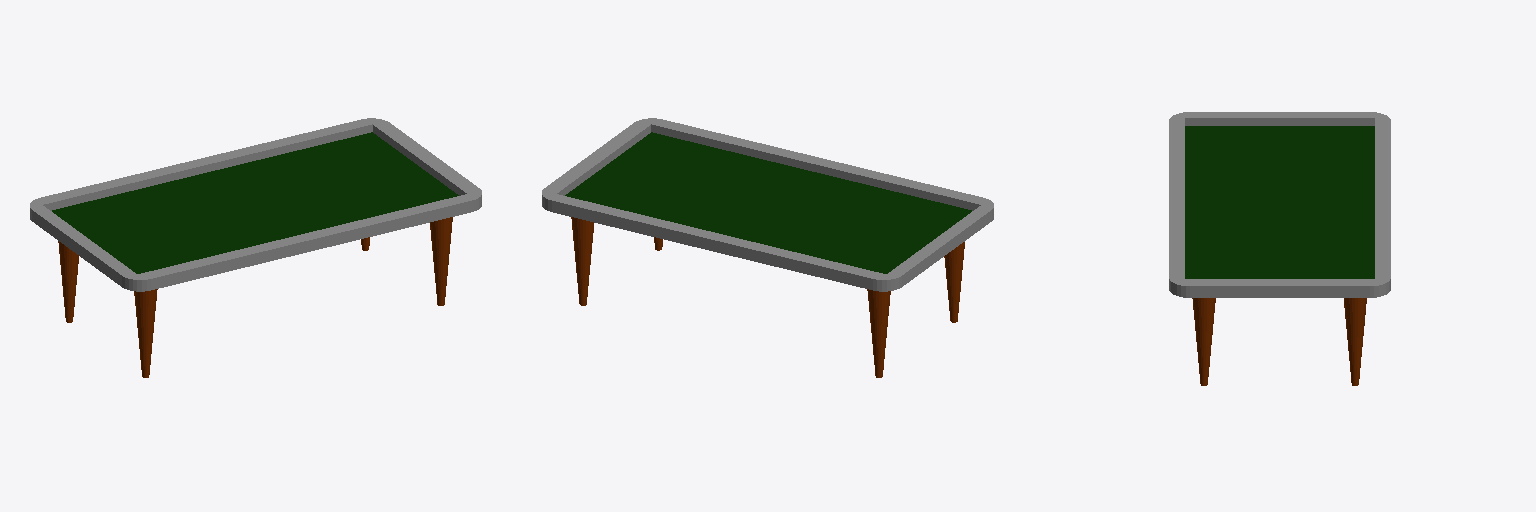
File: table.obj
3 renders of one model, left to right at view 1: azimuth 30°, elevation 25°; view 2: azimuth 150°, elevation 25°; view 3: azimuth 270°, elevation 25°, orthographic.
Parts seen in each view (by area): view 1: Rectangle003, Rectangle004, Cone004, Cone001, Cone003; view 2: Rectangle003, Rectangle004, Cone003, Cone002, Cone004; view 3: Rectangle003, Rectangle004, Cone001, Cone002.
Part boxes in pixels (left/top/right/bottom): Rectangle003: left=52, top=132, right=458, bottom=273; Rectangle004: left=30, top=118, right=481, bottom=291; Cone004: left=134, top=289, right=157, bottom=377; Cone001: left=430, top=217, right=452, bottom=305; Cone003: left=58, top=241, right=78, bottom=322; Rectangle003: left=565, top=132, right=971, bottom=273; Rectangle004: left=542, top=118, right=993, bottom=291; Cone003: left=867, top=289, right=890, bottom=377; Cone002: left=571, top=217, right=593, bottom=305; Cone004: left=944, top=242, right=964, bottom=322; Rectangle003: left=1185, top=126, right=1374, bottom=278; Rectangle004: left=1169, top=112, right=1390, bottom=297; Cone001: left=1192, top=298, right=1215, bottom=385; Cone002: left=1344, top=298, right=1366, bottom=385.
Size of the model in its own units: 387 by 117 by 208.